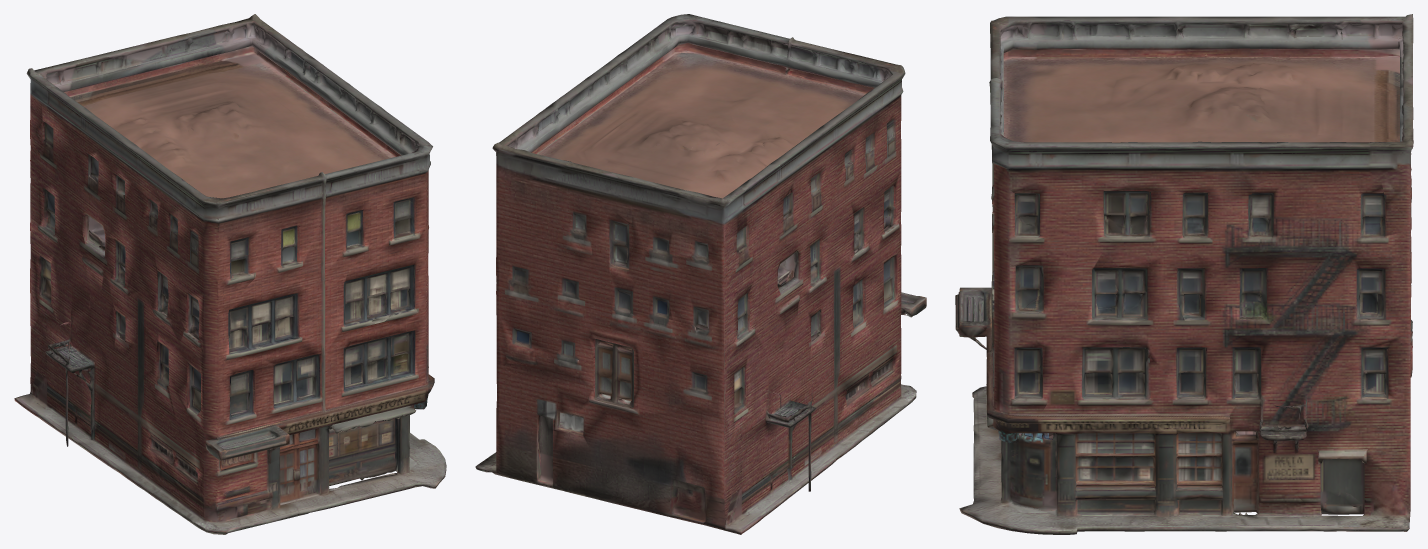
The model's file is Meshy_AI_A_New_York_City_corne_0420204735_texture.fbx.
3 views of the same model, side by side, from view 1: azimuth 30°, elevation 25°; view 2: azimuth 150°, elevation 25°; view 3: azimuth 270°, elevation 25° (orthographic). The views are drawn at different scales.
Parts seen in each view (by area): view 1: Mesh_0; view 2: Mesh_0; view 3: Mesh_0.
Part boxes in pixels (bbox=[...]): Mesh_0: bbox=[14, 14, 446, 534]; Mesh_0: bbox=[475, 14, 926, 534]; Mesh_0: bbox=[955, 14, 1413, 534].
Bounding box in the file's own units: 153 × 175 × 190.
1 material, 1 textured.
